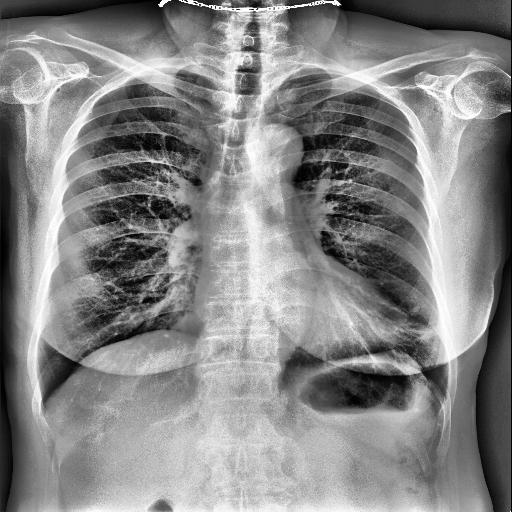0- Aortic enlargement: (258, 123, 302, 167)
13- Pulmonary fibrosis: (379, 318, 441, 344), (411, 324, 438, 340), (417, 326, 441, 339)
